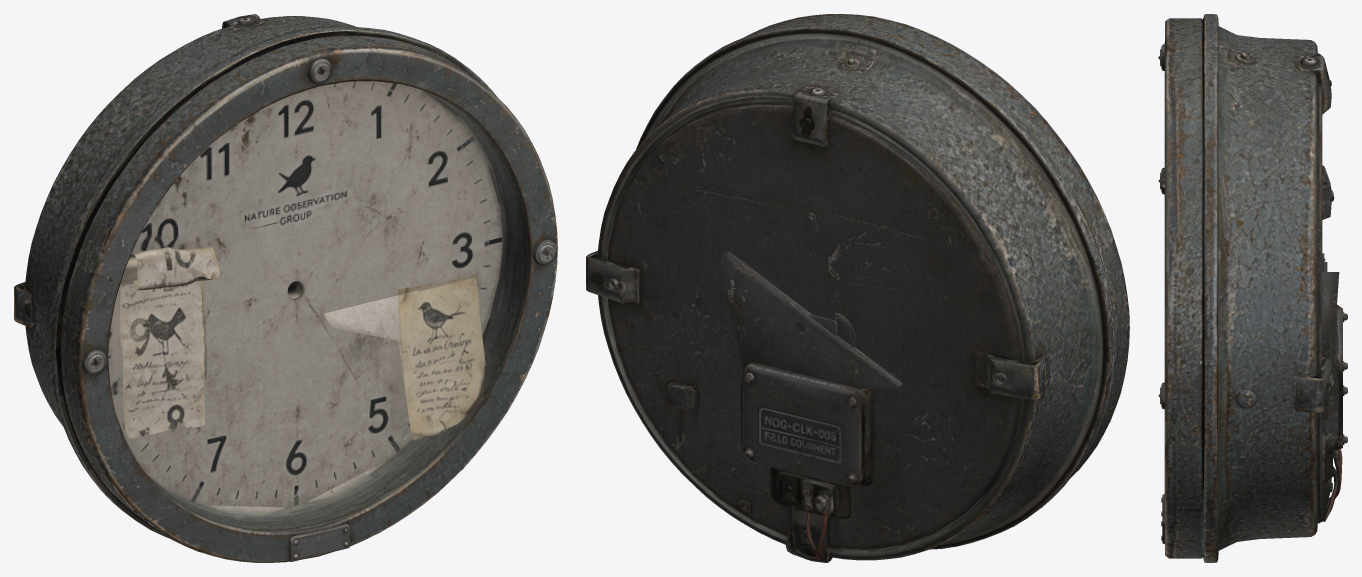
The model's file is vintage_wall_clock_3d_model.fbx.
The picture shows the model from 3 angles, left to right: view 1: azimuth 30°, elevation 25°; view 2: azimuth 150°, elevation 25°; view 3: azimuth 270°, elevation 25°; orthographic projection. The views are drawn at different scales.
Parts seen in each view (by area): view 1: tripo_3dad24c4_dee6_41f0_a4a0_b98160ceec32; view 2: tripo_3dad24c4_dee6_41f0_a4a0_b98160ceec32; view 3: tripo_3dad24c4_dee6_41f0_a4a0_b98160ceec32.
Boxes of the visible parts, x1,y1,x2,y2 form: tripo_3dad24c4_dee6_41f0_a4a0_b98160ceec32: [14, 14, 557, 562]; tripo_3dad24c4_dee6_41f0_a4a0_b98160ceec32: [586, 14, 1129, 562]; tripo_3dad24c4_dee6_41f0_a4a0_b98160ceec32: [1158, 14, 1347, 562].
Size of the model in its own units: 0.9985 by 0.9995 by 0.3442.
Materials: 1 (1 with a texture image).
